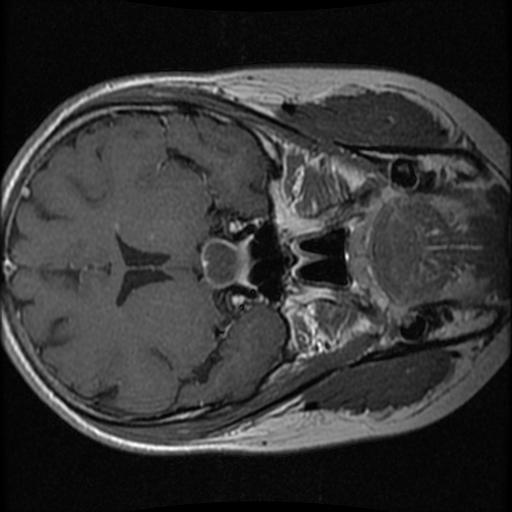pituitary tumour: (201, 239, 247, 288)
